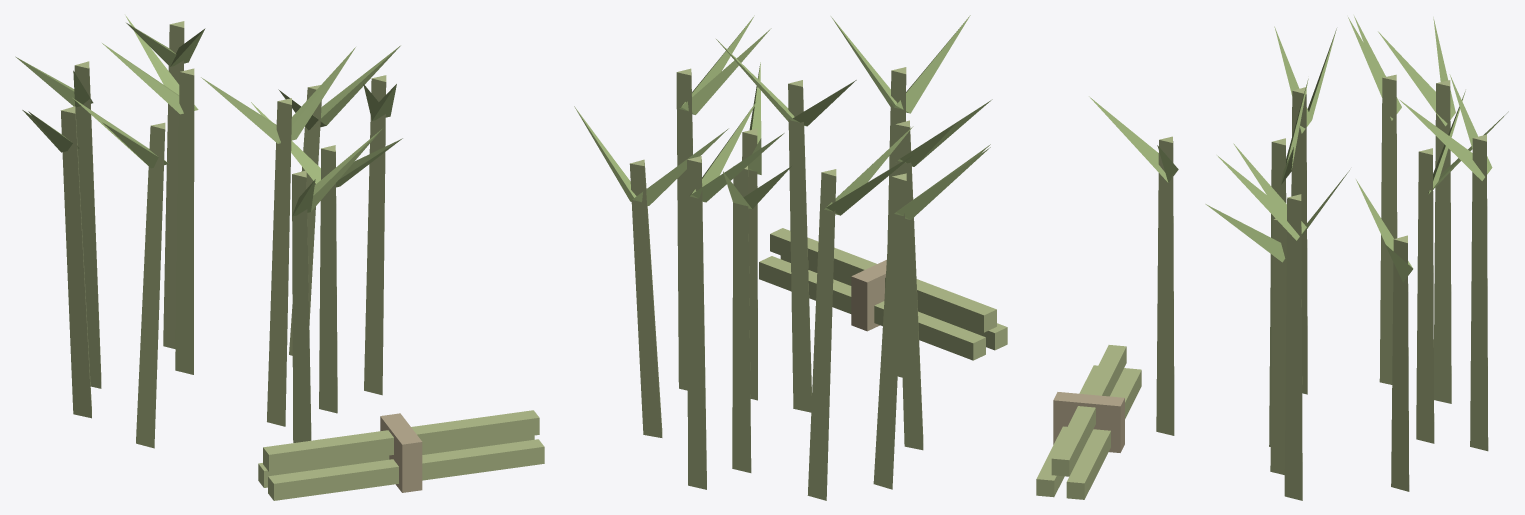
The model's file is sugar.glb.
3 renders of one model, left to right at view 1: azimuth 30°, elevation 25°; view 2: azimuth 150°, elevation 25°; view 3: azimuth 270°, elevation 25°, orthographic. The views are drawn at different scales.
Parts seen in each view (by area): view 1: LOD0; view 2: LOD0; view 3: LOD0.
Part boxes in pixels (x1,y1,x2,y2): LOD0: (15, 15, 544, 500); LOD0: (574, 15, 1007, 500); LOD0: (1036, 16, 1508, 500).
Size of what is drawn, in the model's own units: 0.6183 by 0.5284 by 0.6612.
